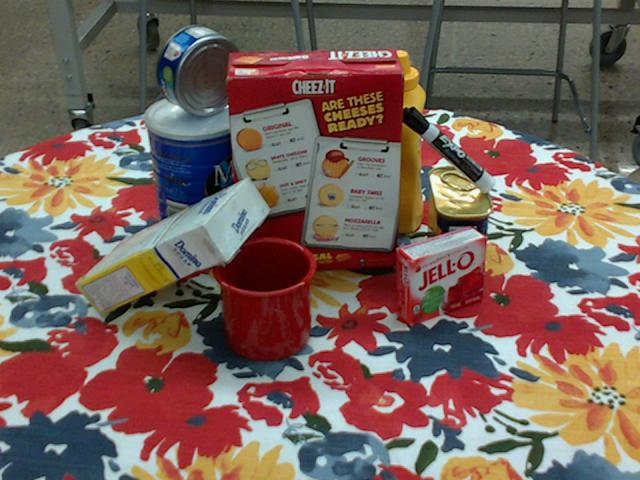cracker_box: (224, 50, 405, 272)
gelatin_box: (395, 226, 487, 326)
large_marker: (401, 107, 496, 192)
master_chef_can: (146, 93, 249, 255)
mug: (211, 235, 317, 360)
mustard_bottle: (371, 51, 426, 234)
potted_meat_can: (427, 166, 493, 284)
sugar_box: (73, 178, 270, 316)
tomato_soup_can: (292, 105, 352, 210)
tuna_fish_can: (156, 25, 242, 115)
